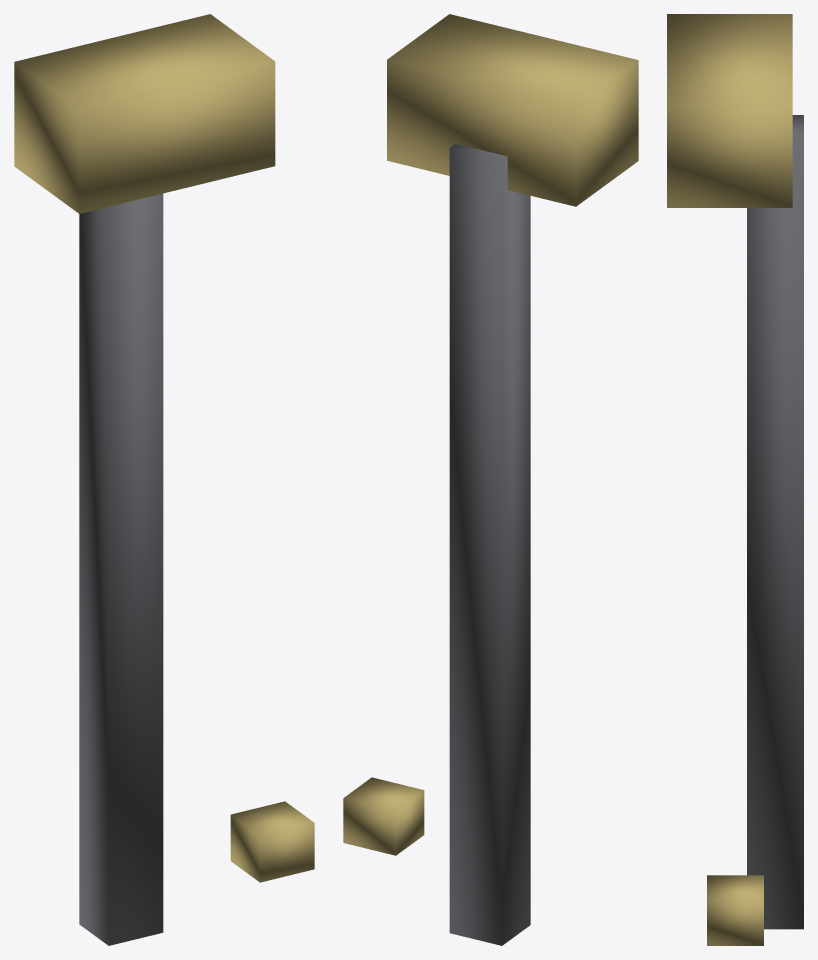
File: dock_light_02.glb
3 renders of one model, left to right at view 1: azimuth 30°, elevation 25°; view 2: azimuth 150°, elevation 25°; view 3: azimuth 270°, elevation 25°, orthographic. The views are drawn at different scales.
Parts seen in each view (by area): view 1: world; view 2: world; view 3: world.
Boxes of the visible parts, box(x1,y1,x2,y2) form: world: box(14, 14, 314, 945); world: box(343, 14, 638, 945); world: box(667, 14, 803, 945).
Bounding box in the file's own units: 0.4512 × 1.49 × 0.216.
